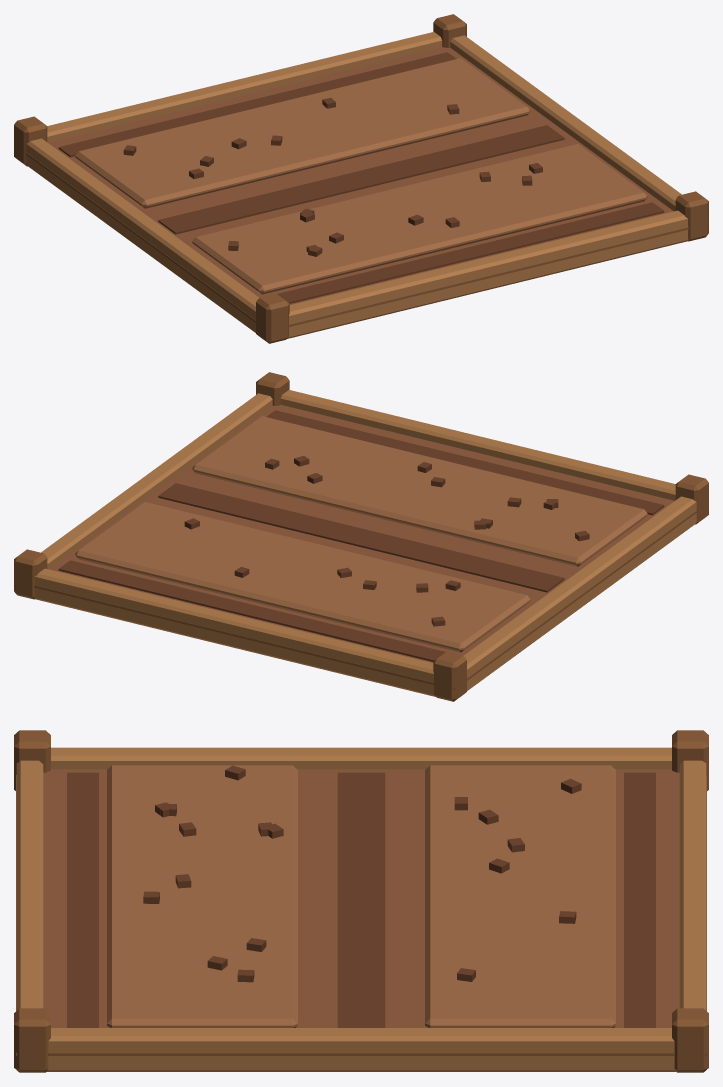
File: Tarla_Zemin.fbx
3 renders of one model, top to bottom at view 1: azimuth 30°, elevation 25°; view 2: azimuth 150°, elevation 25°; view 3: azimuth 270°, elevation 25°, orthographic. The views are drawn at different scales.
Parts seen in each view (by area): view 1: Tarla_Zemin; view 2: Tarla_Zemin; view 3: Tarla_Zemin.
Part boxes in pixels (bbox=[...]): Tarla_Zemin: bbox=[14, 14, 708, 343]; Tarla_Zemin: bbox=[14, 372, 708, 701]; Tarla_Zemin: bbox=[14, 730, 708, 1072].
Bounding box in the file's own units: 262 × 22 × 262.
